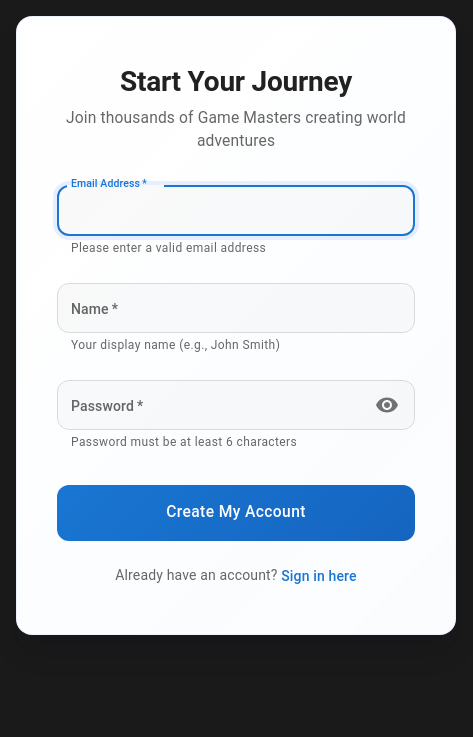
Test case: SimpleRegistrationForm › error handling › should display API error message after submit attempt
The image size is (473, 737).
Note: Need to trigger hasAttemptedSubmit to show error
Type "test@example.com" into the field with id "email" at {"x": 236, "y": 211}, box x1=57 y1=185 x2=415 y2=236
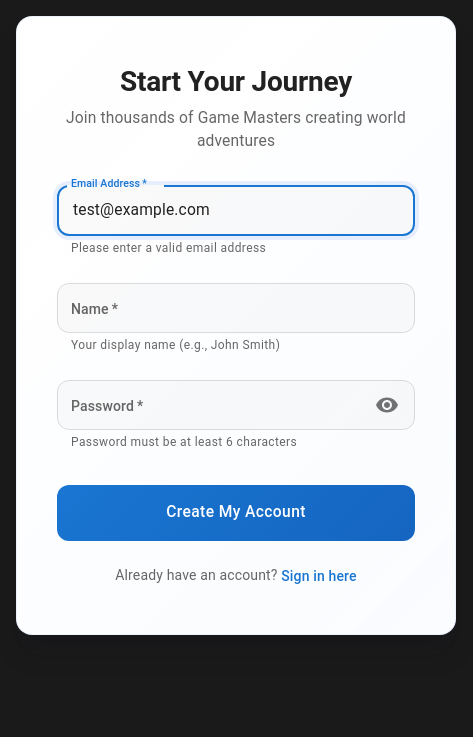
Type "John Smith" into the field with id "name" at {"x": 236, "y": 308}, box x1=57 y1=283 x2=415 y2=333
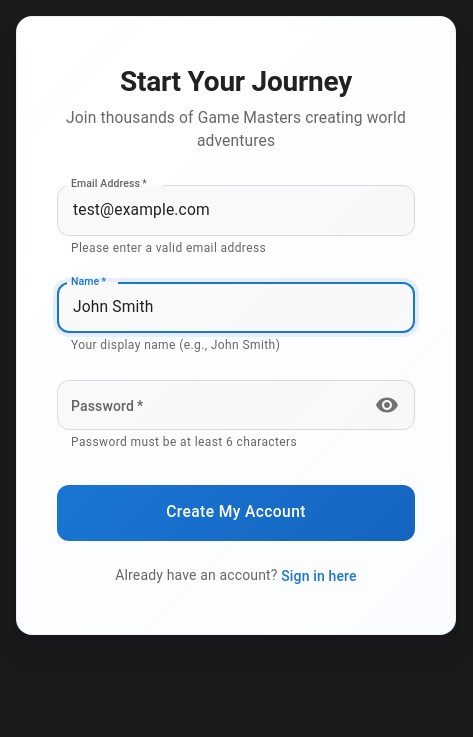
Type "password123" into the password field labelled "Password *" at {"x": 210, "y": 405}, box x1=57 y1=380 x2=362 y2=430
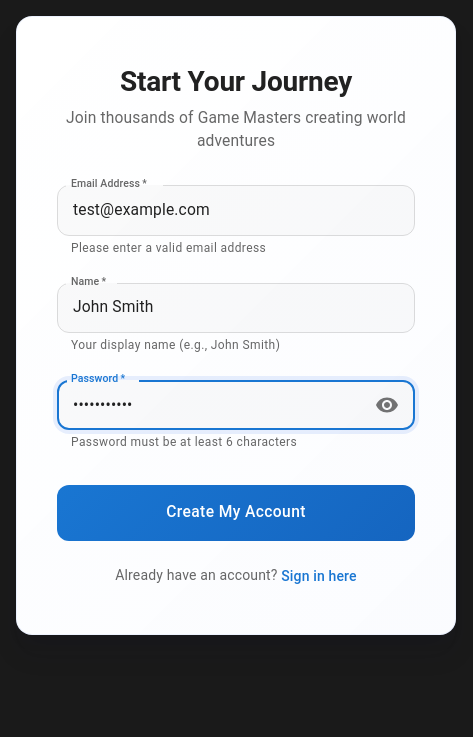
Click the button "Create My Account" at {"x": 236, "y": 513}, box x1=57 y1=485 x2=415 y2=541
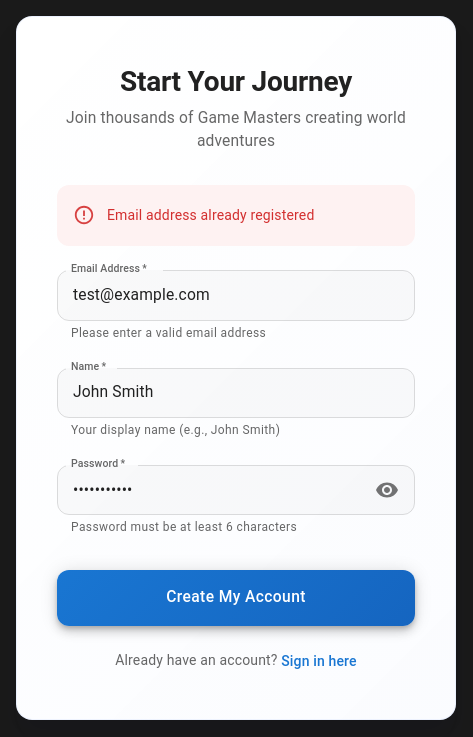
Expected: the message "Email address already registered" is shown, x1=57 y1=185 x2=415 y2=246
Expected: the text "Email address already registered" is shown, x1=107 y1=207 x2=314 y2=223
